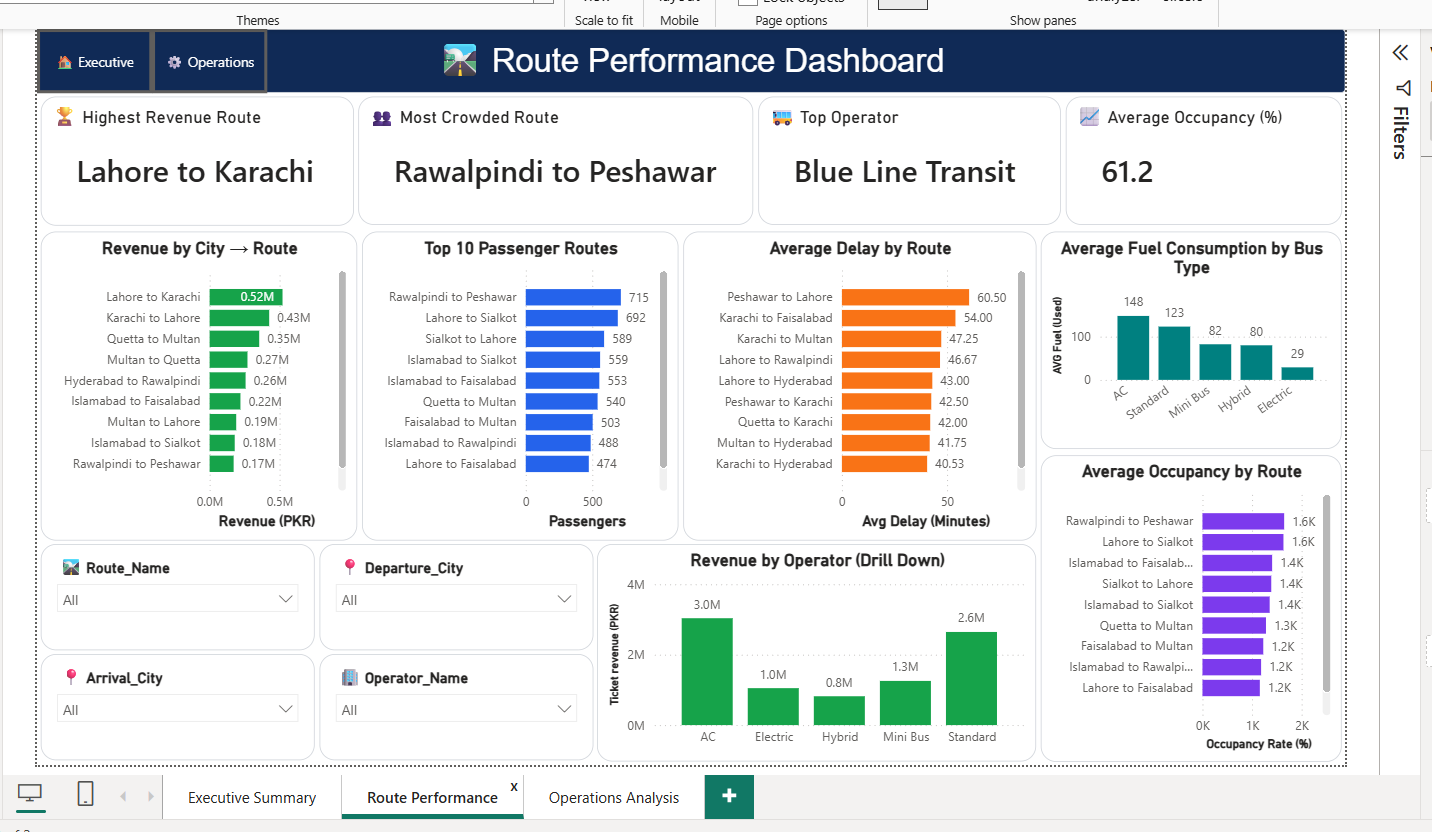

What the dashboard file says about the page in this screenshot:
{"tool":"powerbi","page":{"name":"Route Performance","canvas":[1280,720],"ordinal":1},"visuals":[{"type":"textbox","box":[0,0,1280,62],"z":0},{"type":"cardVisual","title":"🏆 Highest Revenue Route","fields":{"Data":["dashboard_dataset.🏆 Highest Revenue Route"]},"box":[4,66,306,126],"z":1000},{"type":"cardVisual","title":"👥 Most Crowded Route","fields":{"Data":["dashboard_dataset.Most Crowded Route"]},"box":[314,66,386,126],"z":2000},{"type":"cardVisual","title":"🚌 Top Operator","fields":{"Data":["dashboard_dataset.Top Operator"]},"box":[706,66,296,126],"z":3000},{"type":"cardVisual","title":"📈 Average Occupancy (%)","fields":{"Data":["dashboard_dataset.Average Occupancy"]},"box":[1006,66,270,126],"z":4000},{"type":"clusteredBarChart","title":"Revenue by City → Route","fields":{"Y":["Sum(dashboard_dataset.Ticket_Revenue_PKR)"],"Category":["dashboard_dataset.Departure_City","dashboard_dataset.Route_Name"]},"box":[4,198,309.9,302],"z":5000},{"type":"clusteredBarChart","title":"Top 10 Passenger Routes","fields":{"Category":["dashboard_dataset.Route_Name"],"Y":["Sum(dashboard_dataset.Passenger_Count)"]},"box":[318,198,309.9,302.2],"z":6000},{"type":"clusteredBarChart","title":"Average Delay by Route","fields":{"Category":["dashboard_dataset.Route_Name"],"Y":["Avg(dashboard_dataset.Delay_Minutes)"]},"box":[632,198,345.6,302.2],"z":7000},{"type":"clusteredColumnChart","title":"Revenue by Operator (Drill Down)","fields":{"Category":["dashboard_dataset.Operator_Name","dashboard_dataset.Bus_Type"],"Y":["Sum(dashboard_dataset.Ticket_Revenue_PKR)"]},"box":[548,504,429.7,213],"z":8000},{"type":"clusteredBarChart","title":"Average Occupancy by Route","fields":{"Category":["dashboard_dataset.Route_Name"],"Y":["Sum(dashboard_dataset.Occupancy_Rate (%))"]},"box":[982,417,294.6,299.7],"z":9000},{"type":"clusteredColumnChart","title":"Average Fuel Consumption by Bus Type","fields":{"Category":["dashboard_dataset.Bus_Type"],"Y":["Avg(dashboard_dataset.Fuel_Consumption_Liters)"]},"box":[982,198,294.6,213],"z":10000},{"type":"slicer","fields":{"Values":["dashboard_dataset.Route_Name"]},"box":[4,504,267.8,104],"z":11000},{"type":"slicer","fields":{"Values":["dashboard_dataset.Operator_Name"]},"box":[276,612,267.8,104],"z":12000},{"type":"slicer","fields":{"Values":["dashboard_dataset.Departure_City"]},"box":[276,504,267.8,104],"z":13000},{"type":"slicer","fields":{"Values":["dashboard_dataset.Arrival_City"]},"box":[4,612,267.8,104],"z":14000},{"type":"actionButton","title":"🛣️ Routes","box":[112.9,0,112.9,62.9],"z":15000},{"type":"actionButton","title":"🛣️ Routes","box":[0,0,112.9,62.9],"z":16000}]}

Visuals, with their boxes on the page's 1280x720 design canvas (x1, y1, x2, y2). These are canvas units, not pixel positions in the 1432x832 screenshot, which may show the page scaled, cropped or inside an application window:
textbox: locate(0, 0, 1280, 62)
"🏆 Highest Revenue Route" cardVisual: locate(4, 66, 310, 192)
"👥 Most Crowded Route" cardVisual: locate(314, 66, 700, 192)
"🚌 Top Operator" cardVisual: locate(706, 66, 1002, 192)
"📈 Average Occupancy (%)" cardVisual: locate(1006, 66, 1276, 192)
"Revenue by City → Route" clusteredBarChart: locate(4, 198, 314, 500)
"Top 10 Passenger Routes" clusteredBarChart: locate(318, 198, 628, 500)
"Average Delay by Route" clusteredBarChart: locate(632, 198, 978, 500)
"Revenue by Operator (Drill Down)" clusteredColumnChart: locate(548, 504, 978, 717)
"Average Occupancy by Route" clusteredBarChart: locate(982, 417, 1277, 717)
"Average Fuel Consumption by Bus Type" clusteredColumnChart: locate(982, 198, 1277, 411)
slicer - dashboard_dataset.Route_Name: locate(4, 504, 272, 608)
slicer - dashboard_dataset.Operator_Name: locate(276, 612, 544, 716)
slicer - dashboard_dataset.Departure_City: locate(276, 504, 544, 608)
slicer - dashboard_dataset.Arrival_City: locate(4, 612, 272, 716)
"🛣️ Routes" actionButton: locate(113, 0, 226, 63)
"🛣️ Routes" actionButton: locate(0, 0, 113, 63)
